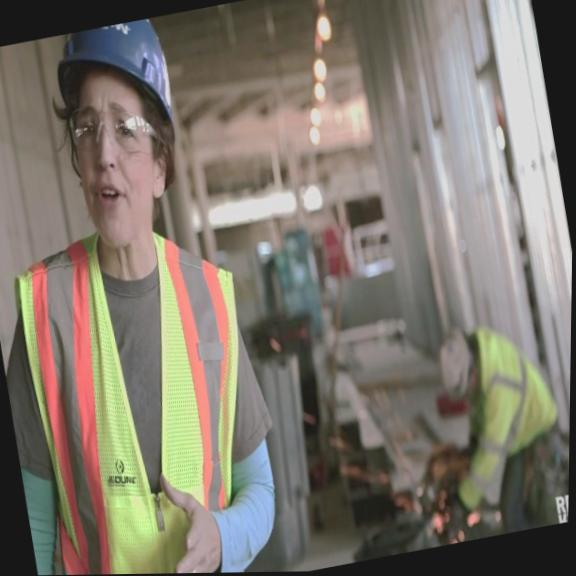safety_vest: (0, 207, 288, 576), (429, 311, 571, 511)
